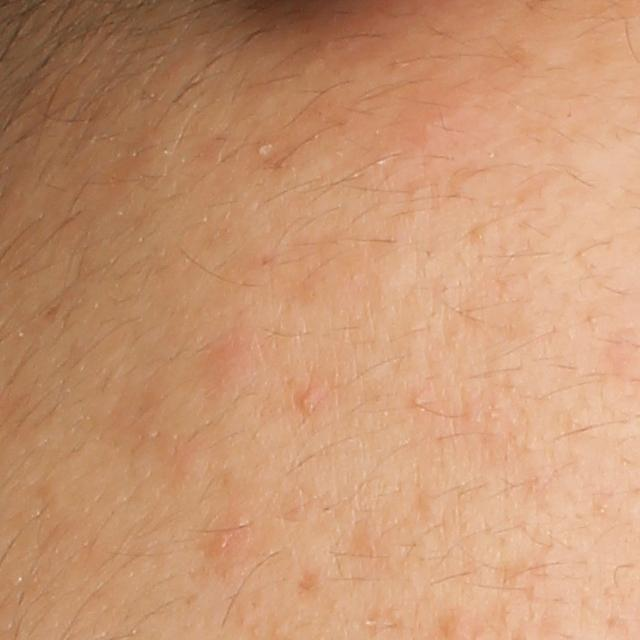comedo: (253, 142, 269, 157), (410, 394, 425, 406)
papule: (295, 381, 325, 416)
